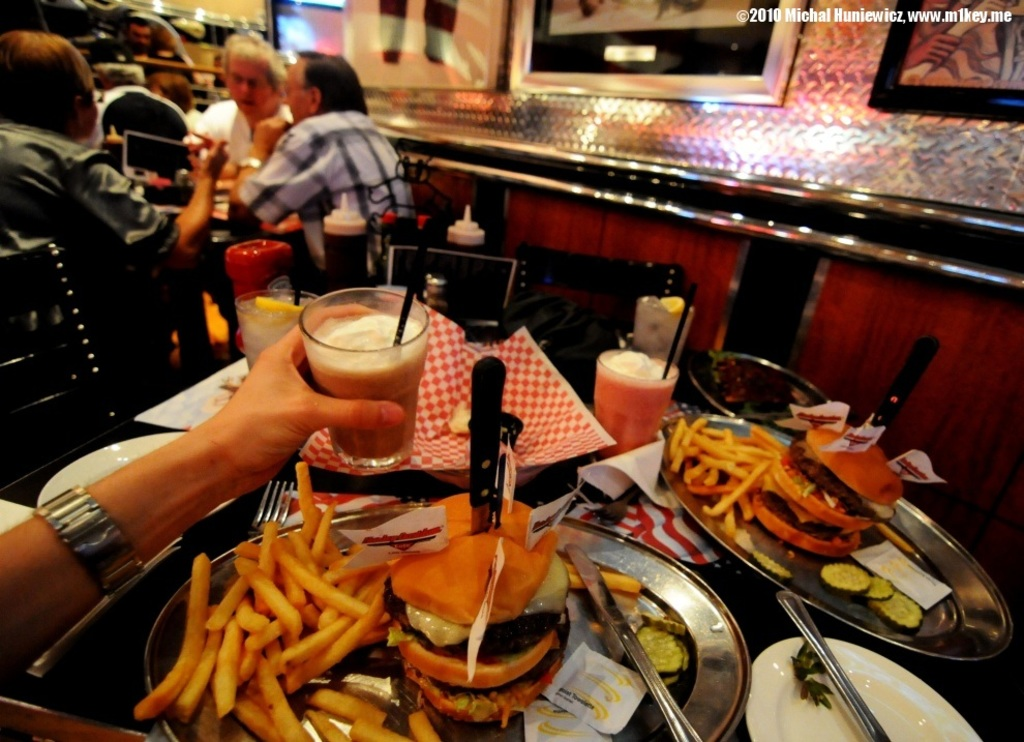French fries: (142, 519, 395, 722), (663, 413, 784, 535)
